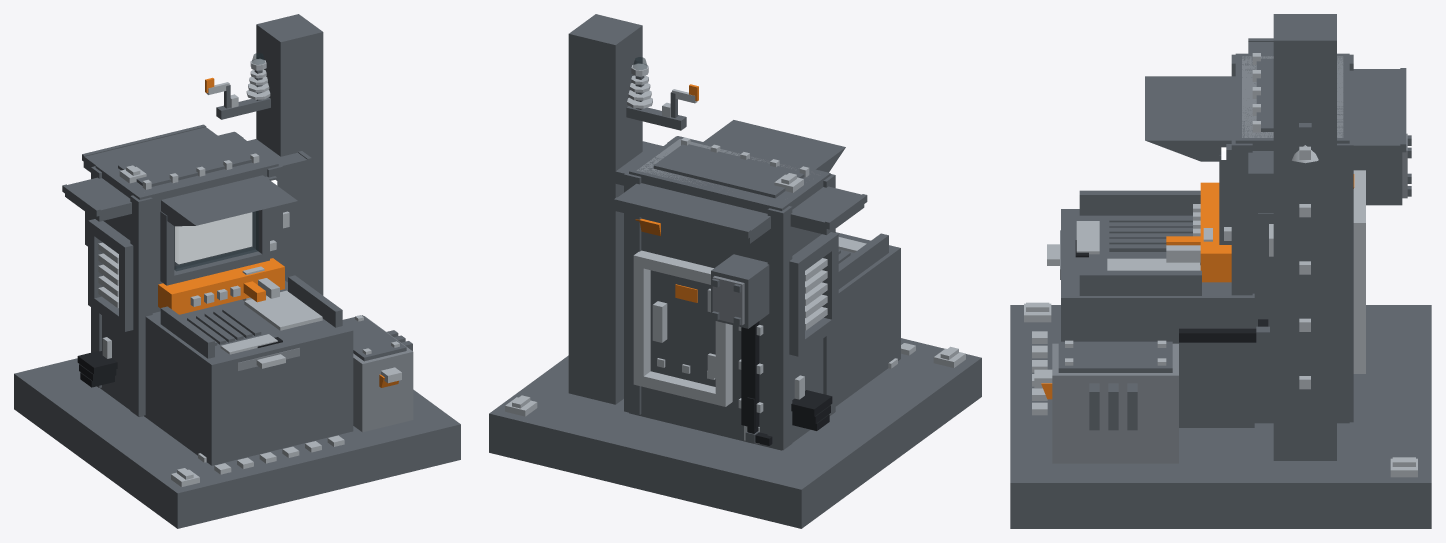
File: research_station.glb
3 renders of one model, left to right at view 1: azimuth 30°, elevation 25°; view 2: azimuth 150°, elevation 25°; view 3: azimuth 270°, elevation 25°, orthographic. The views are drawn at different scales.
Visible parts, largest first — view 1: ResearchStation_LOD0, col_Skid, col_Bench, col_Mast, col_Cabinet; view 2: ResearchStation_LOD0, col_Skid, col_Mast, col_Cabinet, col_Bench; view 3: ResearchStation_LOD0, col_Skid, col_Mast, col_Bench, col_Cabinet.
Part boxes in pixels (left/top/right/bottom): ResearchStation_LOD0: left=14, top=27, right=457, bottom=501; col_Skid: left=14, top=358, right=460, bottom=528; col_Bench: left=144, top=280, right=353, bottom=465; col_Mast: left=256, top=14, right=323, bottom=295; col_Cabinet: left=95, top=131, right=278, bottom=416; ResearchStation_LOD0: left=489, top=29, right=981, bottom=498; col_Skid: left=489, top=338, right=981, bottom=528; col_Mast: left=568, top=14, right=642, bottom=404; col_Cabinet: left=629, top=136, right=830, bottom=450; col_Bench: left=835, top=232, right=900, bottom=406; ResearchStation_LOD0: left=1010, top=26, right=1431, bottom=494; col_Skid: left=1010, top=305, right=1431, bottom=528; col_Mast: left=1273, top=14, right=1336, bottom=460; col_Bench: left=1061, top=209, right=1254, bottom=427; col_Cabinet: left=1235, top=53, right=1349, bottom=423.
Size of what is drawn, in the model's own units: 2 by 2.44 by 2.
